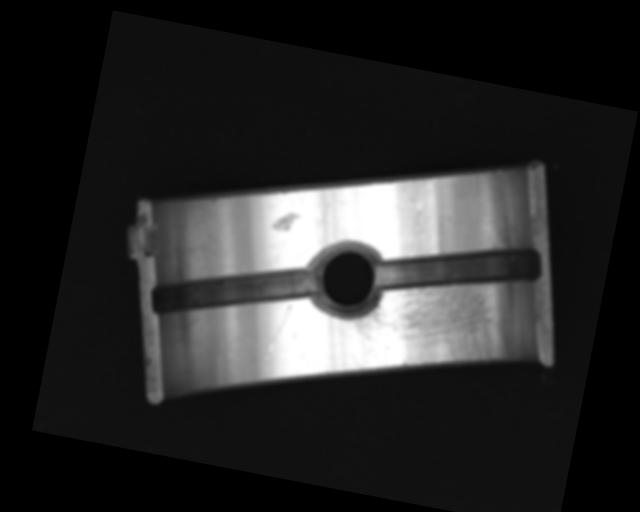bruise: (269, 208, 300, 236)
gap: (149, 239, 319, 341), (373, 219, 544, 315)
hole: (304, 234, 388, 325)
nick: (265, 301, 292, 363)
scratch: (344, 253, 521, 394)
